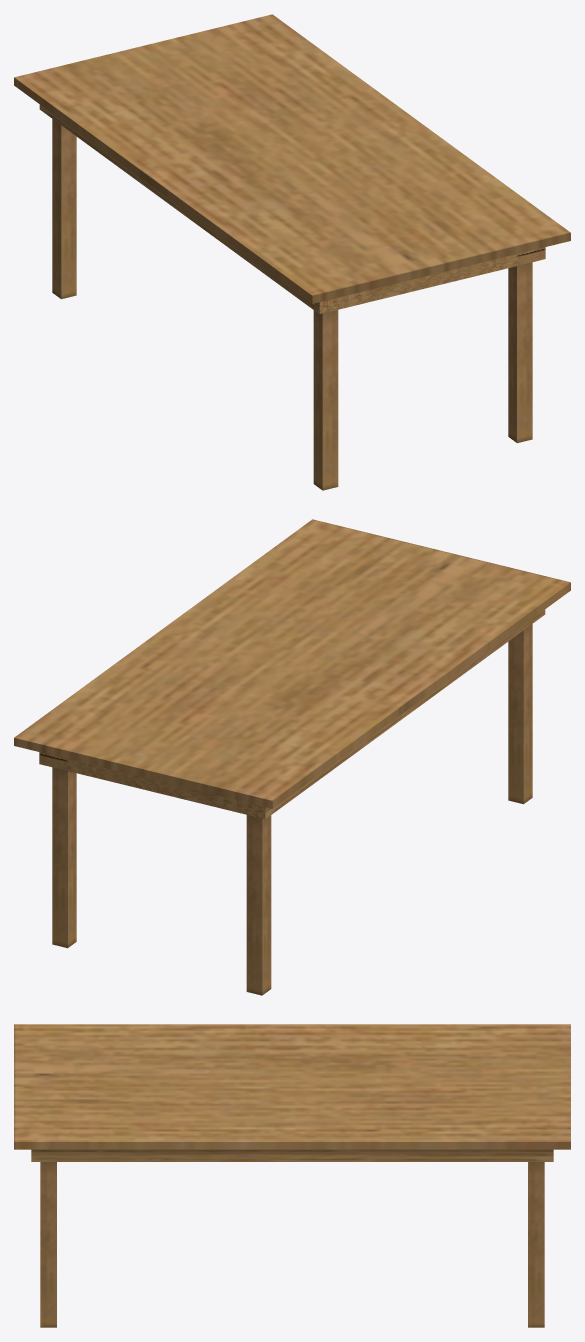
The model's file is TableWood.glb.
The picture shows the model from 3 angles, top to bottom: view 1: azimuth 30°, elevation 25°; view 2: azimuth 150°, elevation 25°; view 3: azimuth 270°, elevation 25°; orthographic projection. The views are drawn at different scales.
Visible parts, largest first — view 1: TABLEWOOD; view 2: TABLEWOOD; view 3: TABLEWOOD.
Part boxes in pixels (x1=…): TABLEWOOD: x1=14, y1=14, x2=570, y2=490; TABLEWOOD: x1=14, y1=519, x2=570, y2=995; TABLEWOOD: x1=14, y1=1024, x2=570, y2=1327.
Bounding box in the file's own units: 1 × 0.78 × 2.
Materials: 1 (1 with a texture image).
